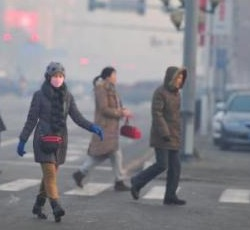person: (17, 62, 104, 223), (131, 64, 190, 207), (71, 65, 133, 192)
